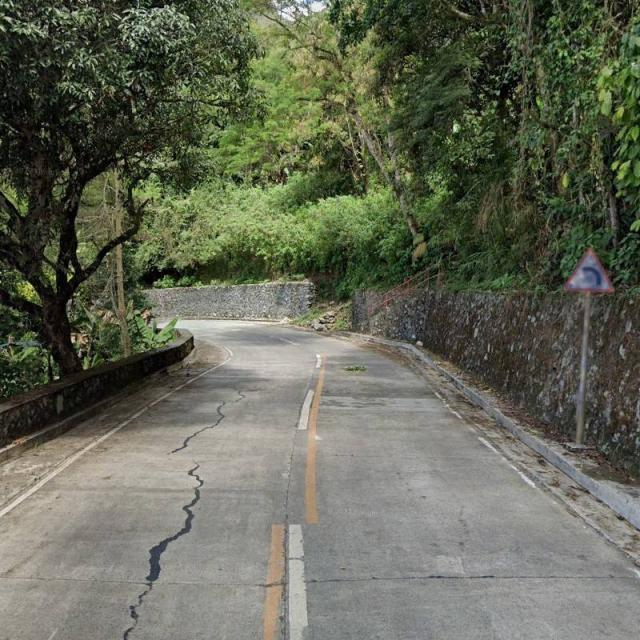warn_left_curve: (565, 248, 615, 293)
